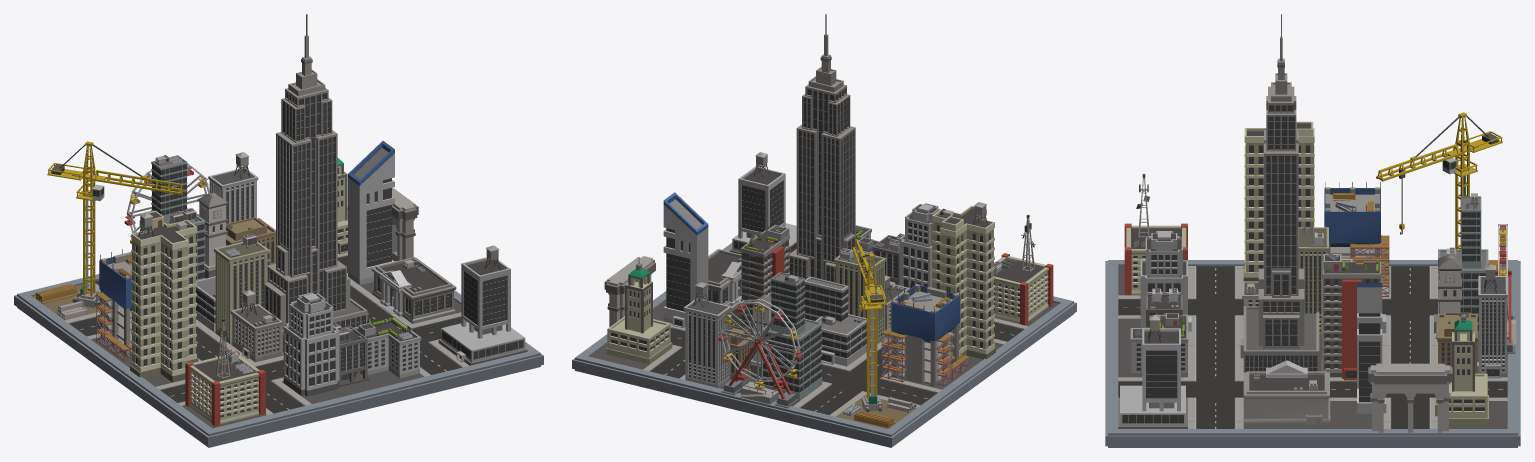
File: simple_city_free.glb
The picture shows the model from 3 angles, left to right: view 1: azimuth 30°, elevation 25°; view 2: azimuth 150°, elevation 25°; view 3: azimuth 270°, elevation 25°; orthographic projection. The views are drawn at different scales.
Parts seen in each view (by area): view 1: Object_2; view 2: Object_2; view 3: Object_2.
Boxes of the visible parts, box(x1,y1,x2,y2) form: Object_2: box(14, 14, 543, 447); Object_2: box(572, 14, 1076, 447); Object_2: box(1105, 14, 1520, 447).
Size of the model in its own units: 149 by 140 by 149.
Materials: 1 (1 with a texture image).
